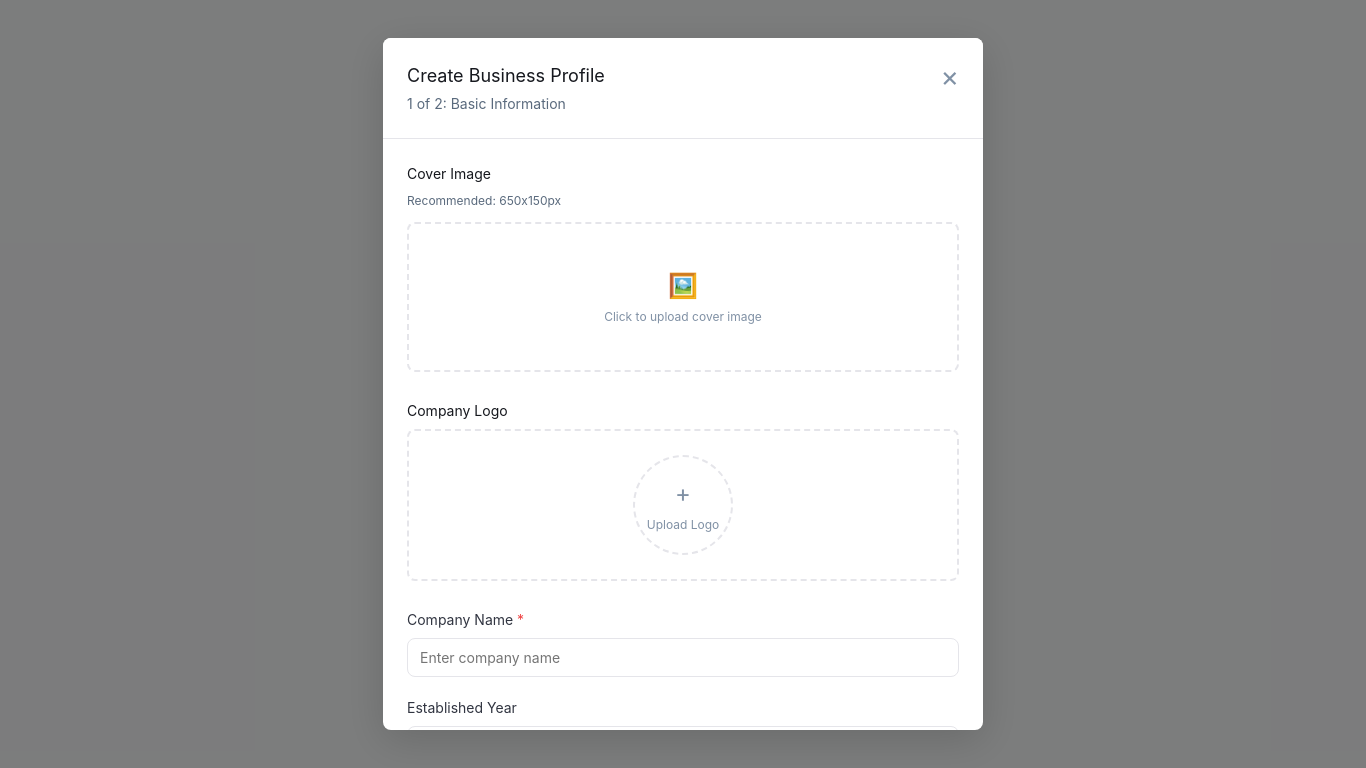
it: BusinessProfileModal › Step 2: Team Management › should add team member when clicking Add Team Member button
Type "Test Company" into the field labelled "Company Name *" at point(683, 658), box [407,638,959,677]
(page scrolled)
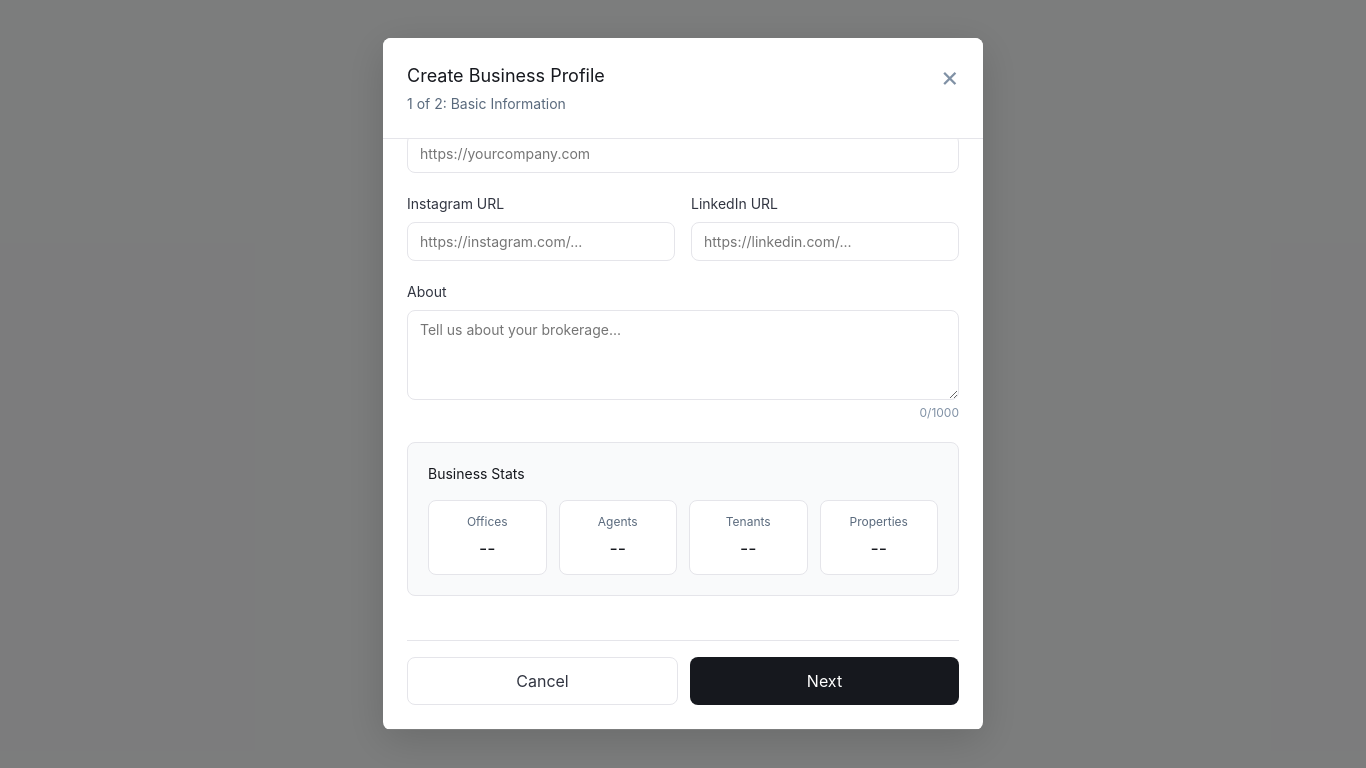
Click the button "Next" at point(824, 681), box [690,657,959,705]
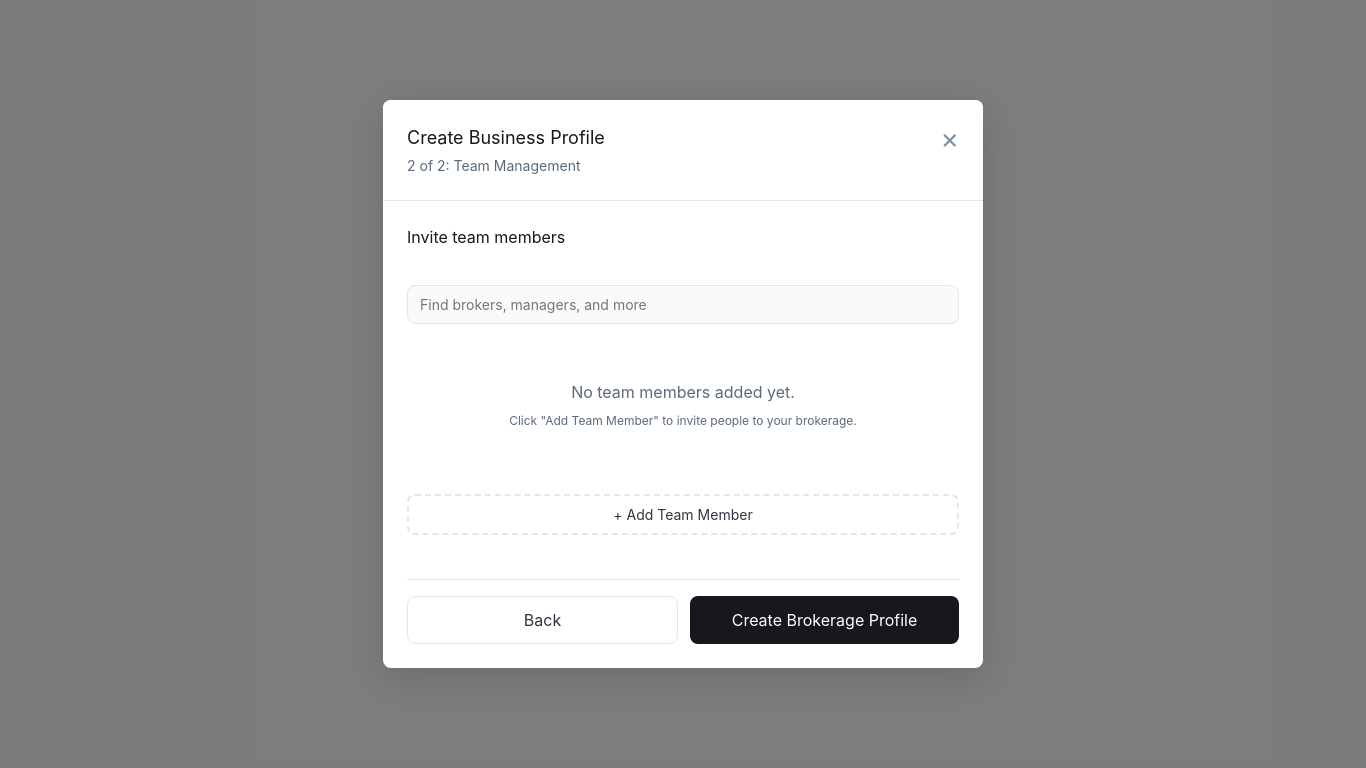
Expected: the text "2 of 2: Team Management" is shown, [407,155,605,176]
Click the button "+ Add Team Member" at point(683, 514), box [407,494,959,535]
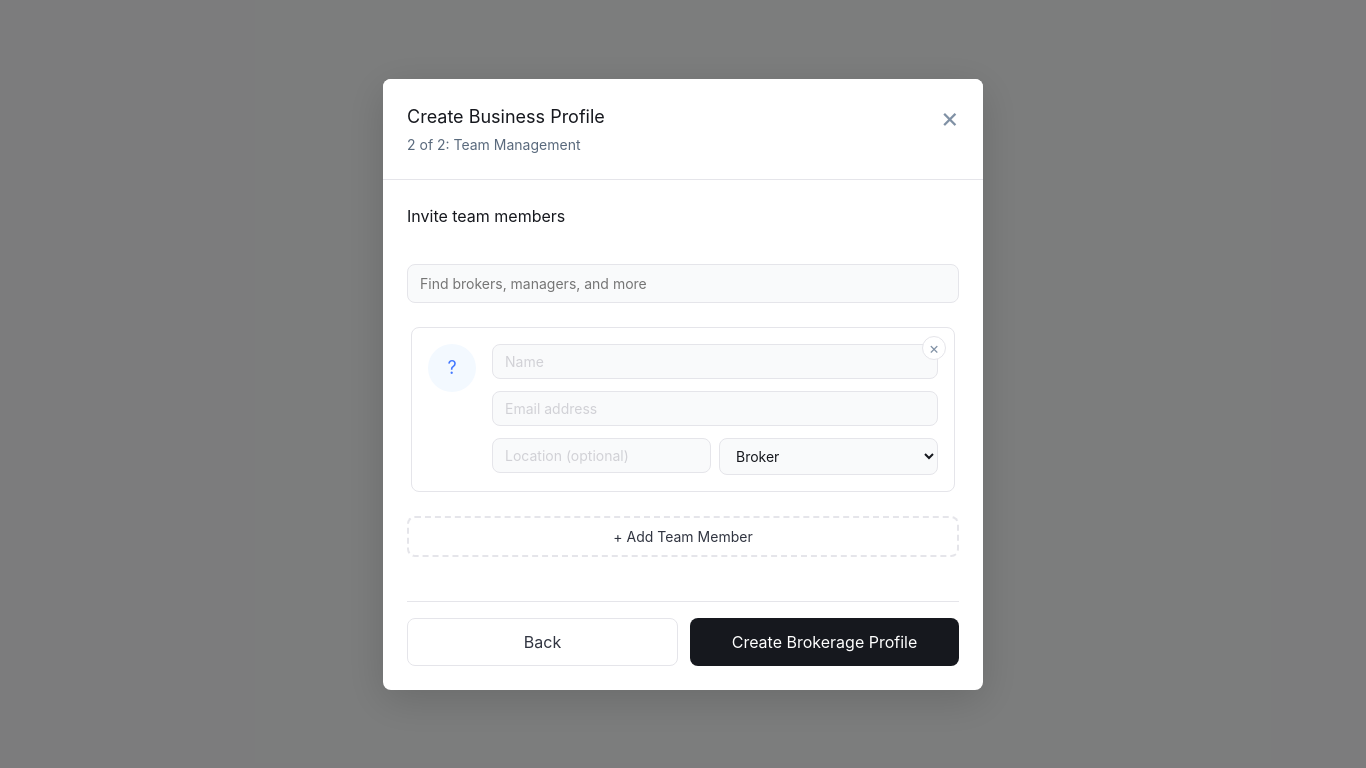
Expected: the field with placeholder "Name" is shown, [492,344,938,378]
Expected: the field with placeholder "Email address" is shown, [492,390,938,426]
